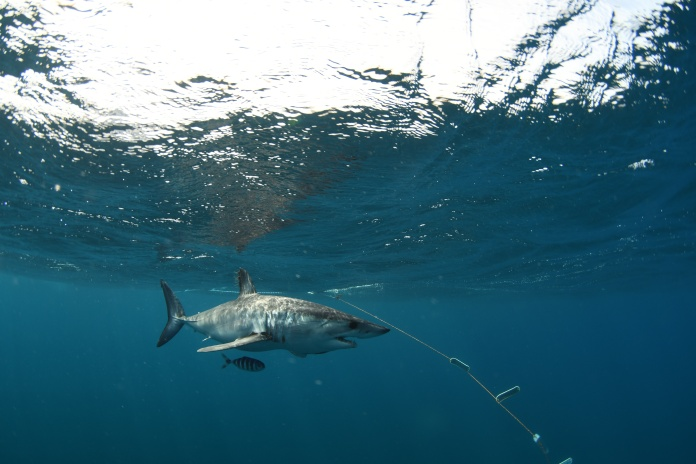Mako: (148, 263, 400, 385)
